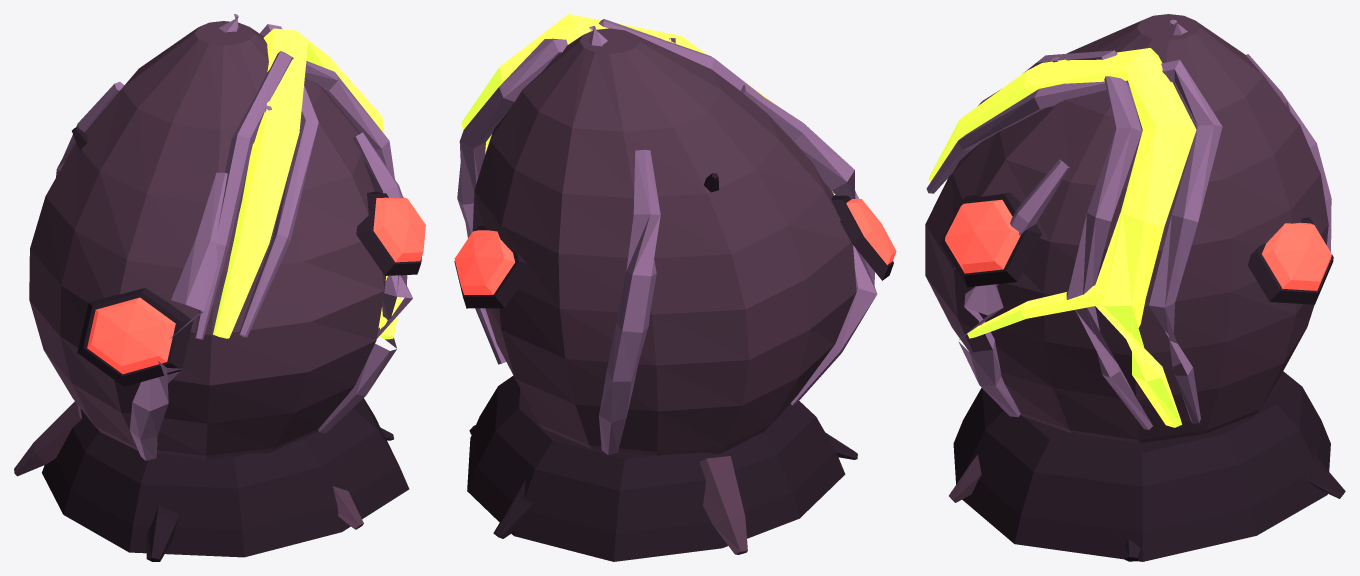
Rendered from brood_egg.glb.
3 views of the same model, side by side, from view 1: azimuth 30°, elevation 25°; view 2: azimuth 150°, elevation 25°; view 3: azimuth 270°, elevation 25° (orthographic). The views are drawn at different scales.
Parts seen in each view (by area): view 1: EggShell, EggBase, Surf_TEAM; view 2: EggShell, EggBase, Surf_TEAM; view 3: EggShell, EggBase, Surf_TEAM.
Boxes of the visible parts, x1,y1,x2,y2 form: EggShell: (29, 14, 421, 460); EggBase: (14, 398, 409, 561); Surf_TEAM: (87, 197, 425, 373); EggShell: (454, 14, 893, 455); EggBase: (467, 375, 857, 561); Surf_TEAM: (454, 199, 896, 294); EggShell: (925, 14, 1333, 443); EggBase: (949, 371, 1345, 561); Surf_TEAM: (945, 199, 1331, 290).
Bounding box in the file's own units: 0.8811 × 1.05 × 0.8445.
